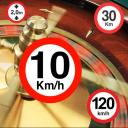speed_limit_120: (87, 89, 121, 123)
speed_limit_30: (94, 2, 124, 34)
